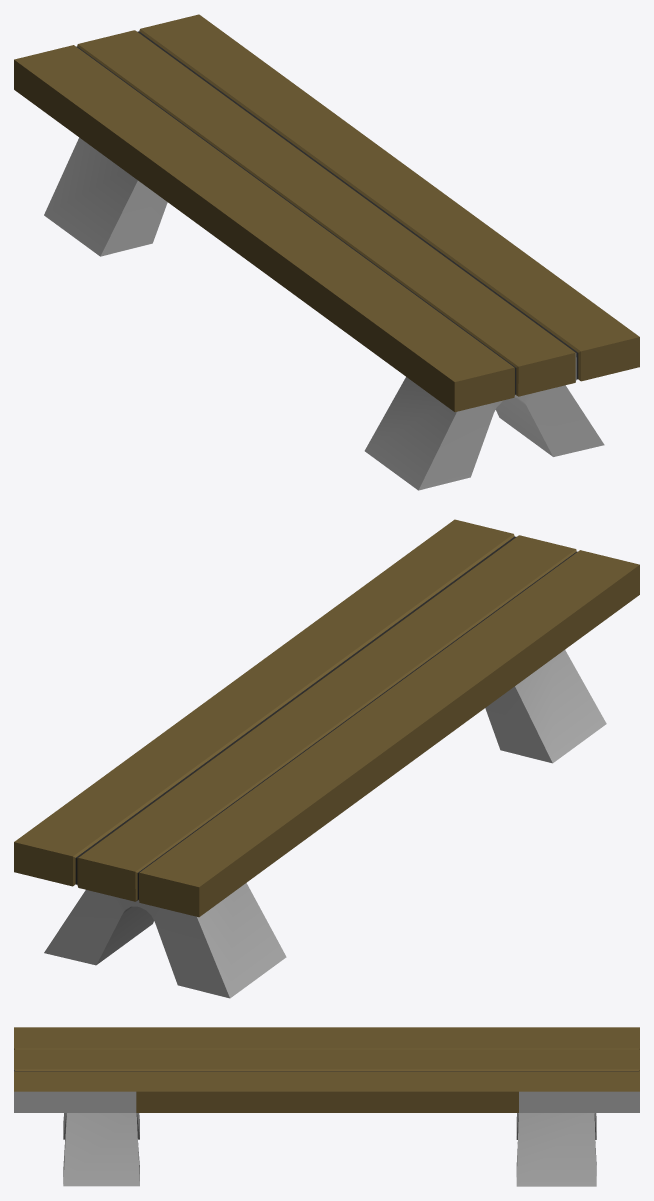
File: BacklessBench.fbx
3 views of the same model, one above another, from view 1: azimuth 30°, elevation 25°; view 2: azimuth 150°, elevation 25°; view 3: azimuth 270°, elevation 25° (orthographic). The views are drawn at different scales.
Visible parts, largest first — view 1: Cube.001, Cube; view 2: Cube.001, Cube; view 3: Cube.001, Cube.
Part boxes in pixels (x1,y1,x2,y2): Cube.001: [14, 14, 639, 411]; Cube: [44, 137, 604, 490]; Cube.001: [14, 519, 639, 917]; Cube: [44, 650, 606, 998]; Cube.001: [14, 1027, 639, 1112]; Cube: [63, 1113, 596, 1186].
Bounding box in the file's own units: 269 × 183 × 1094.
